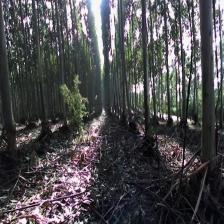trunk: (199, 5, 217, 173), (1, 9, 17, 146), (34, 22, 48, 130), (141, 9, 151, 139), (56, 16, 67, 127), (164, 23, 171, 124), (180, 32, 186, 114)
